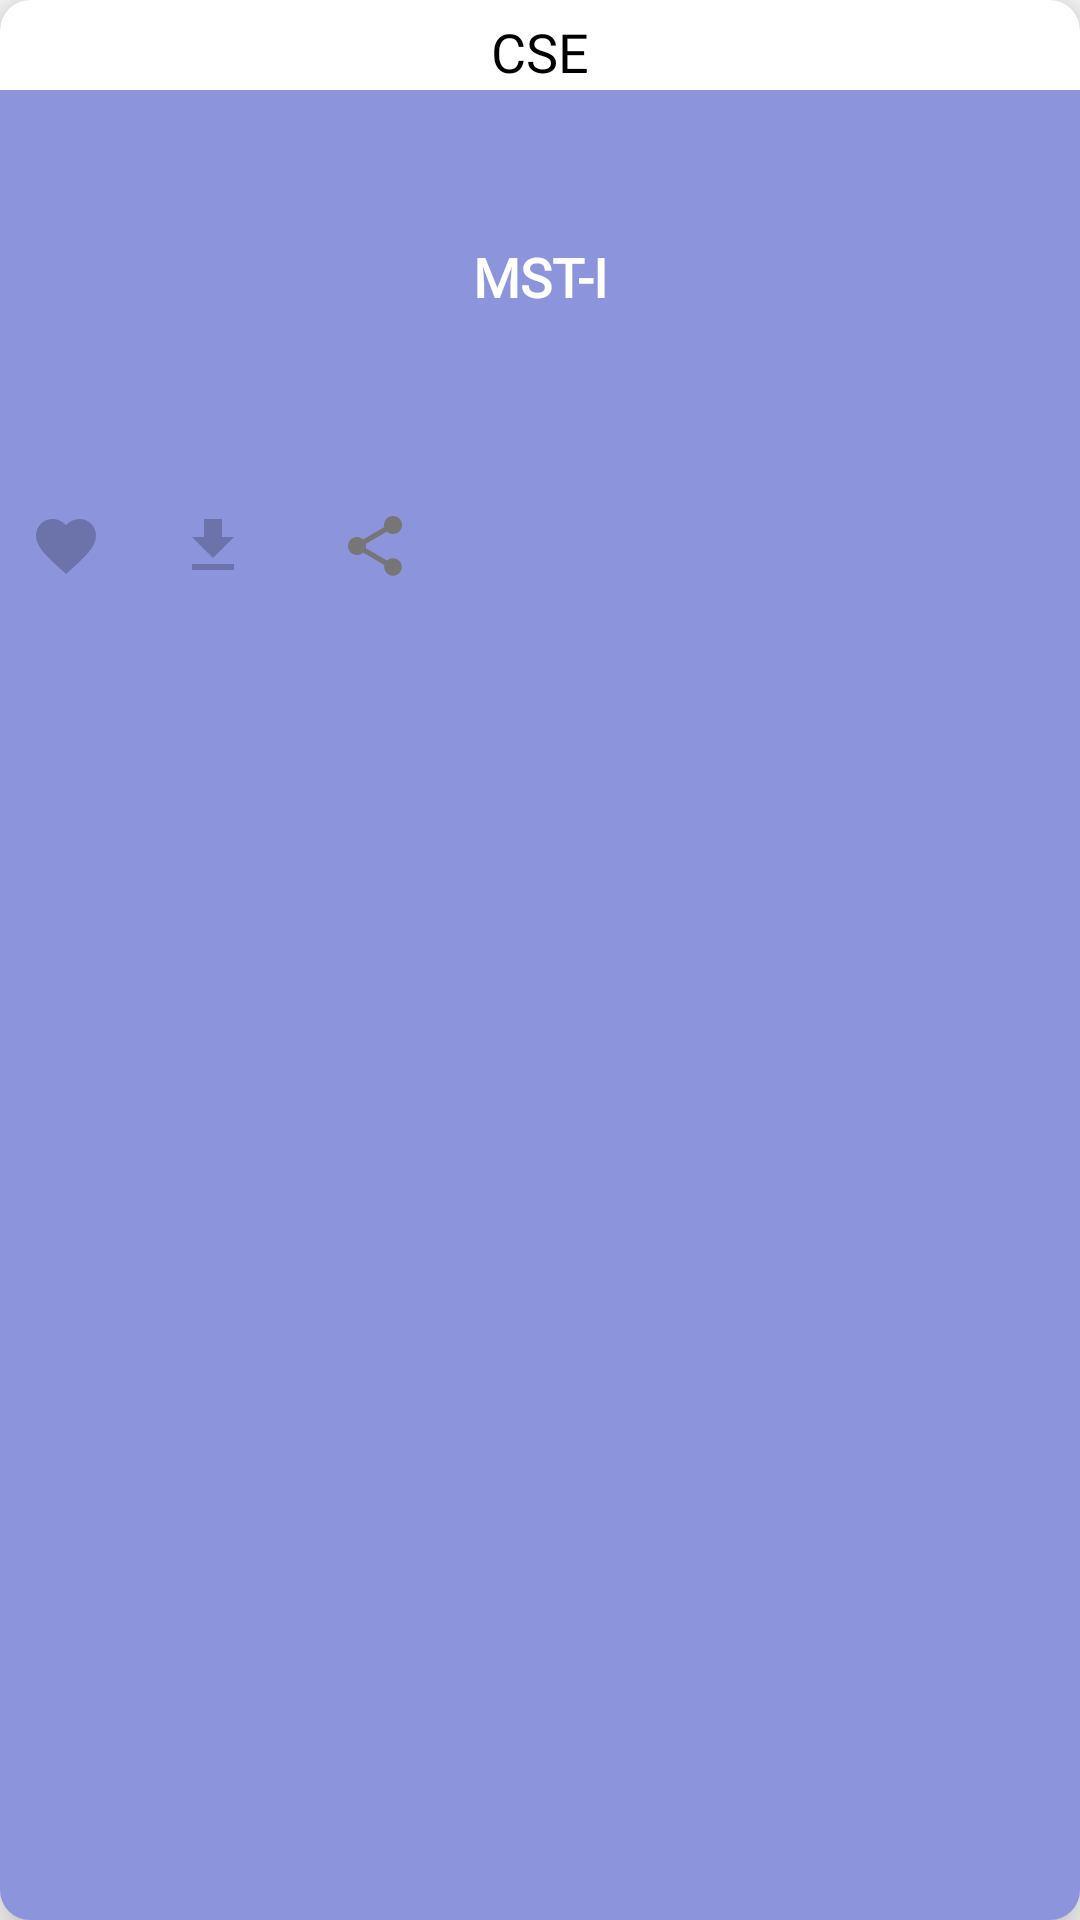

Icons on this 1080×1920 Android screen, each with the point to tap as (x,y):
favorite border: (66,546)
file download: (213,544)
share: (375,546)
